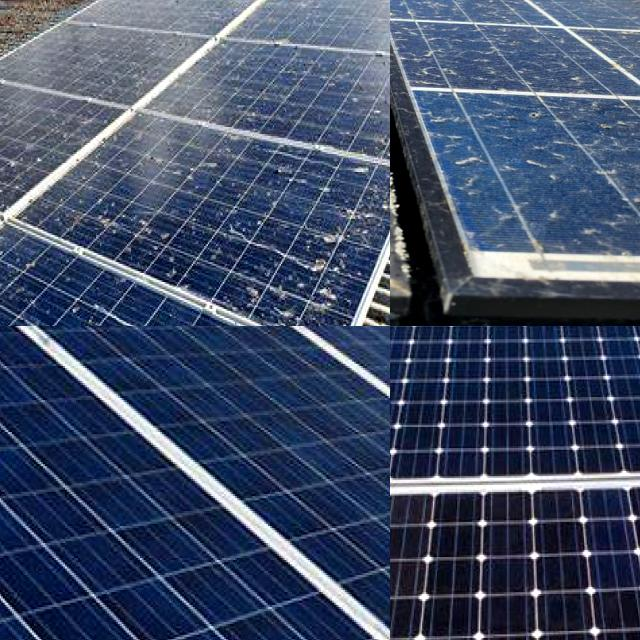bird: (286, 200, 350, 270), (100, 186, 161, 246), (246, 267, 300, 326), (0, 242, 48, 306), (354, 166, 390, 231), (171, 141, 227, 182), (63, 313, 111, 326), (0, 296, 19, 326)
crack: (0, 326, 390, 640), (390, 326, 640, 501), (0, 326, 377, 437), (390, 479, 640, 640), (0, 326, 235, 454), (129, 326, 390, 432), (404, 326, 640, 400)
dust: (423, 77, 640, 246), (390, 76, 525, 244), (393, 0, 640, 70), (390, 0, 487, 65), (390, 0, 538, 20), (390, 0, 430, 68)
